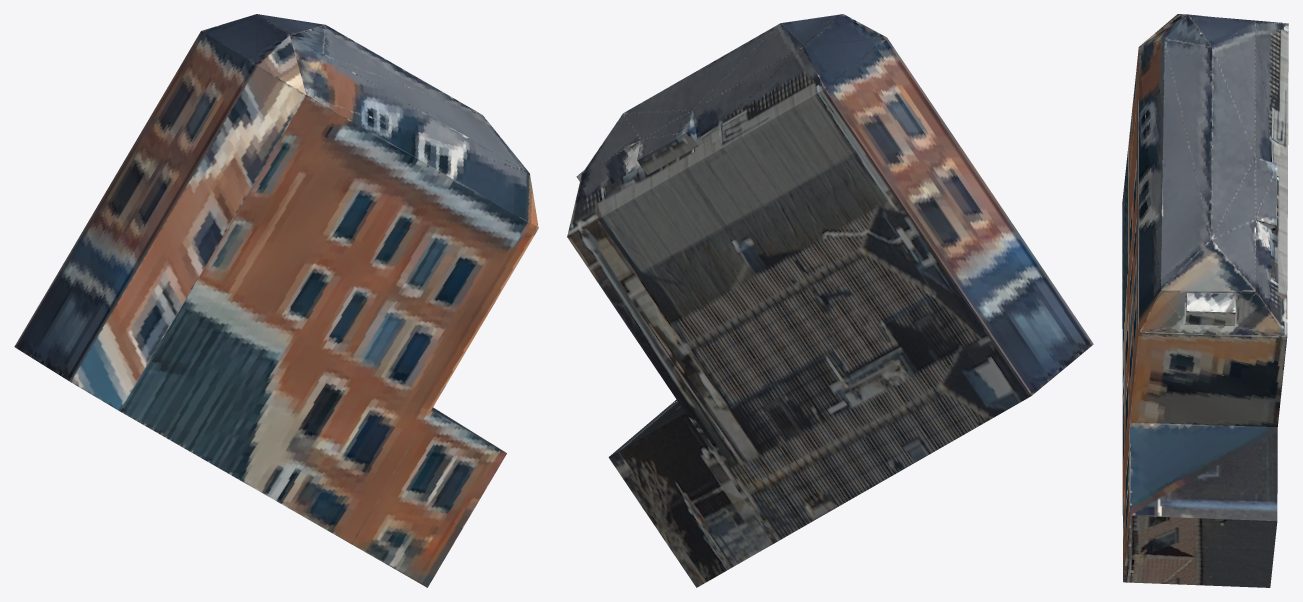
3 renders of one model, left to right at view 1: azimuth 30°, elevation 25°; view 2: azimuth 150°, elevation 25°; view 3: azimuth 270°, elevation 25°, orthographic. The views are drawn at different scales.
Parts seen in each view (by area): view 1: BAG_0599100000671717 (×7); view 2: BAG_0599100000671717 (×7); view 3: BAG_0599100000671717 (×9).
Boxes of the visible parts, x1,y1,x2,y2 form: BAG_0599100000671717 (×7): [14, 14, 538, 587]; BAG_0599100000671717 (×7): [567, 14, 1093, 587]; BAG_0599100000671717 (×9): [1122, 14, 1288, 587].
Size of the model in its own units: 19.15 by 21.67 by 6.2.
Materials: 10 (9 with a texture image).
